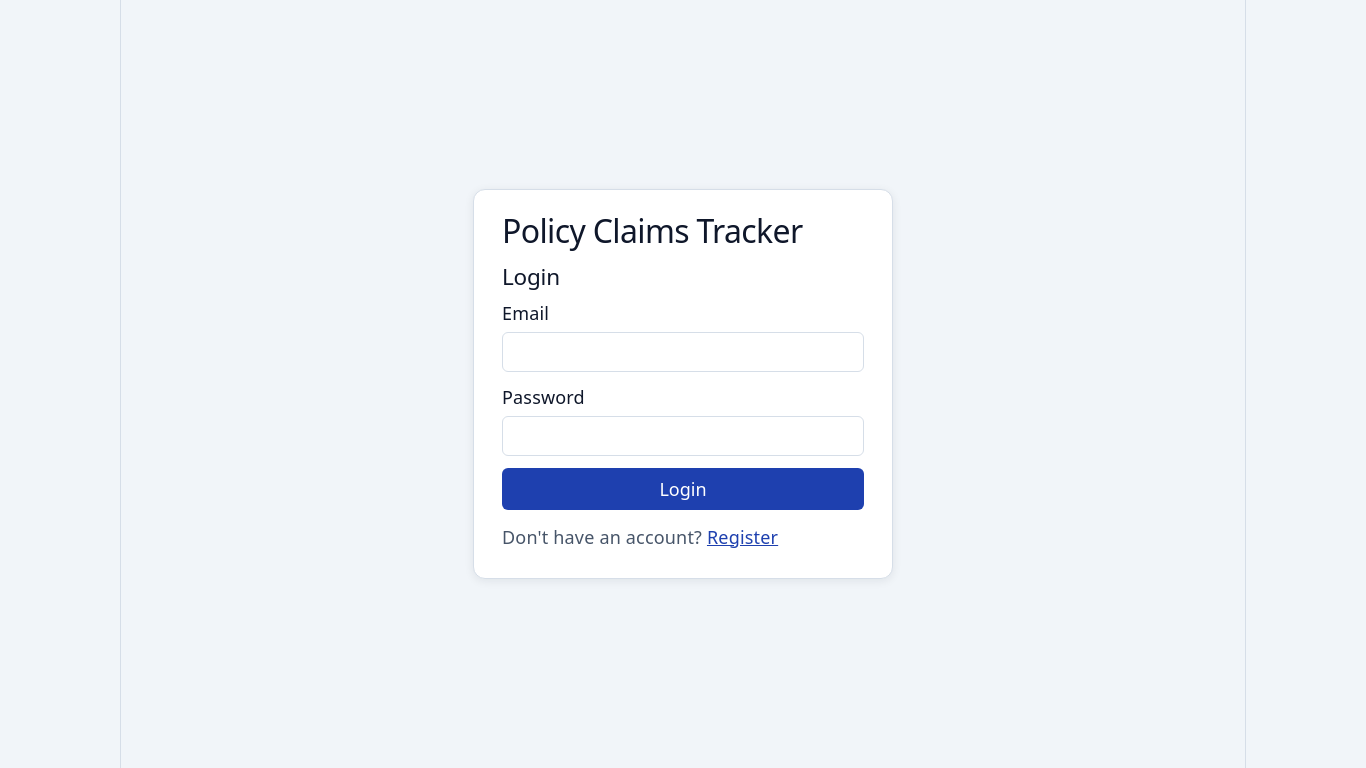
Test case: LoginPage › shows validation error for invalid email format
The width and height of the screenshot is (1366, 768).
In the field labelled "Email": (683, 352) [502,332,864,372], type "john@domain"
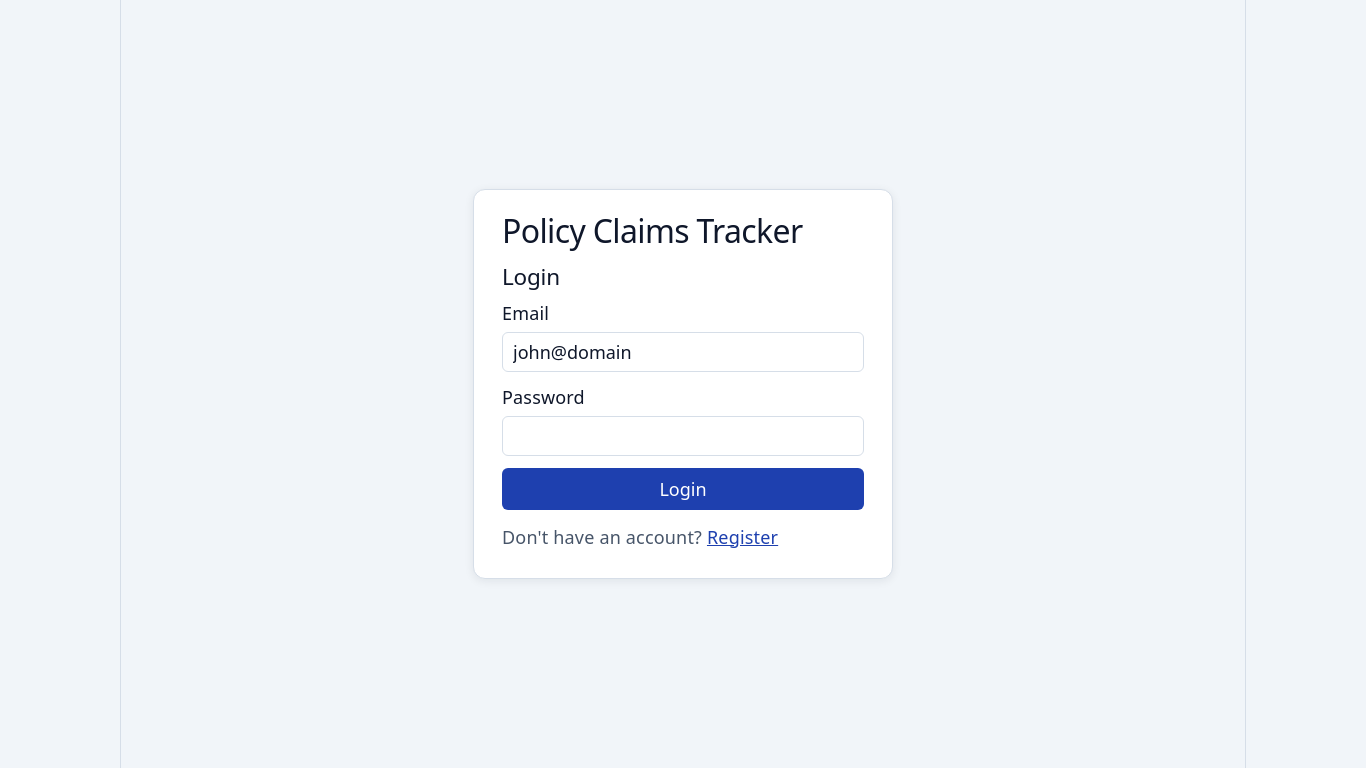
In the password field labelled "Password": (683, 436) [502,416,864,456], type "Password123!"
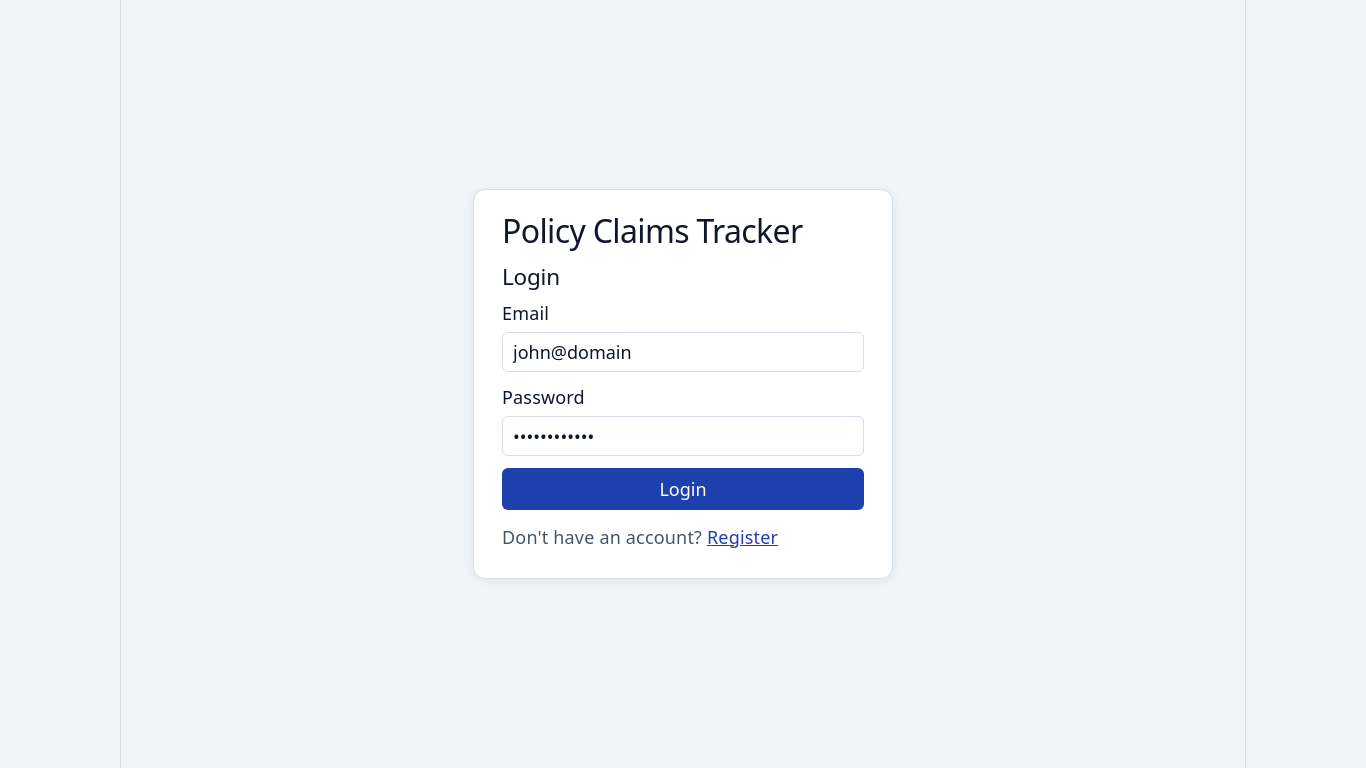
Submit the form from the button "Login", box [502,468,864,510]
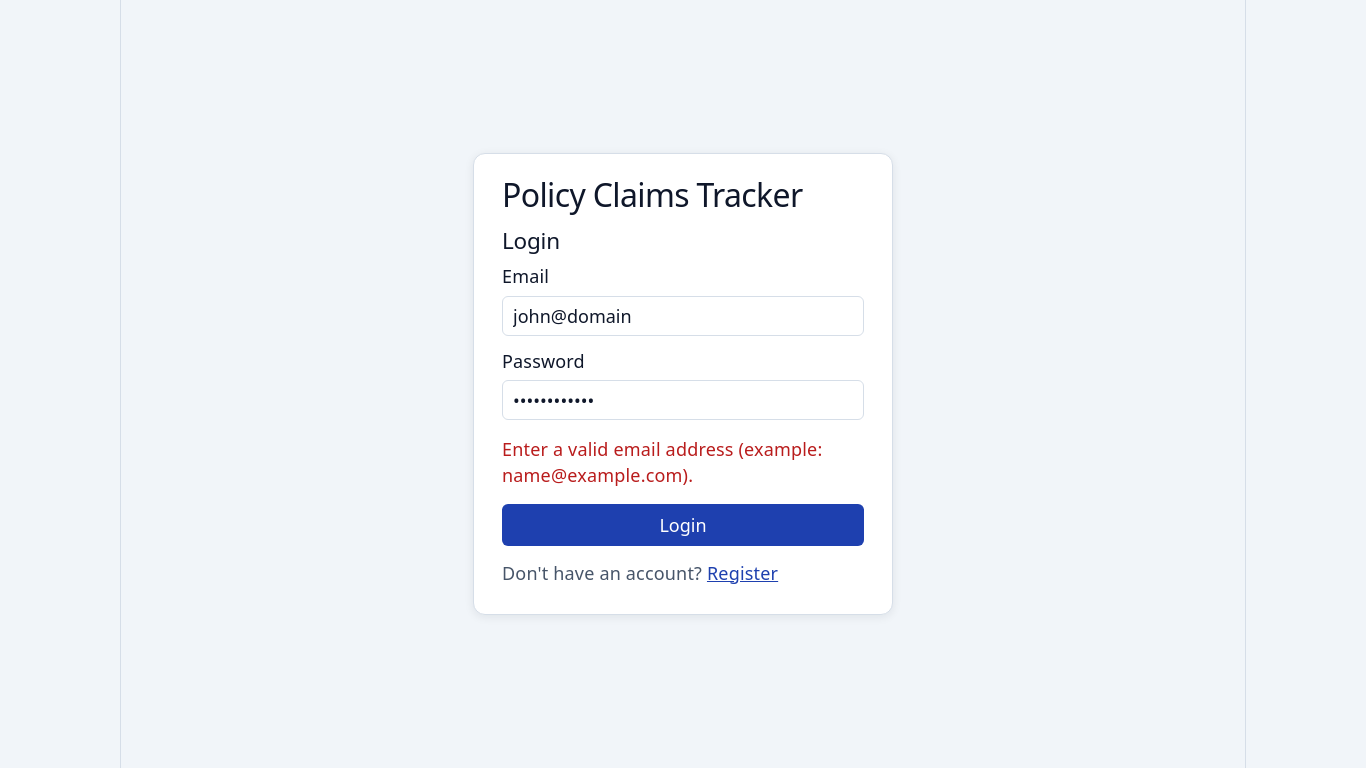
Expected: the text "Enter a valid email address (example: name@example.com)." is shown, [502,436,864,488]
